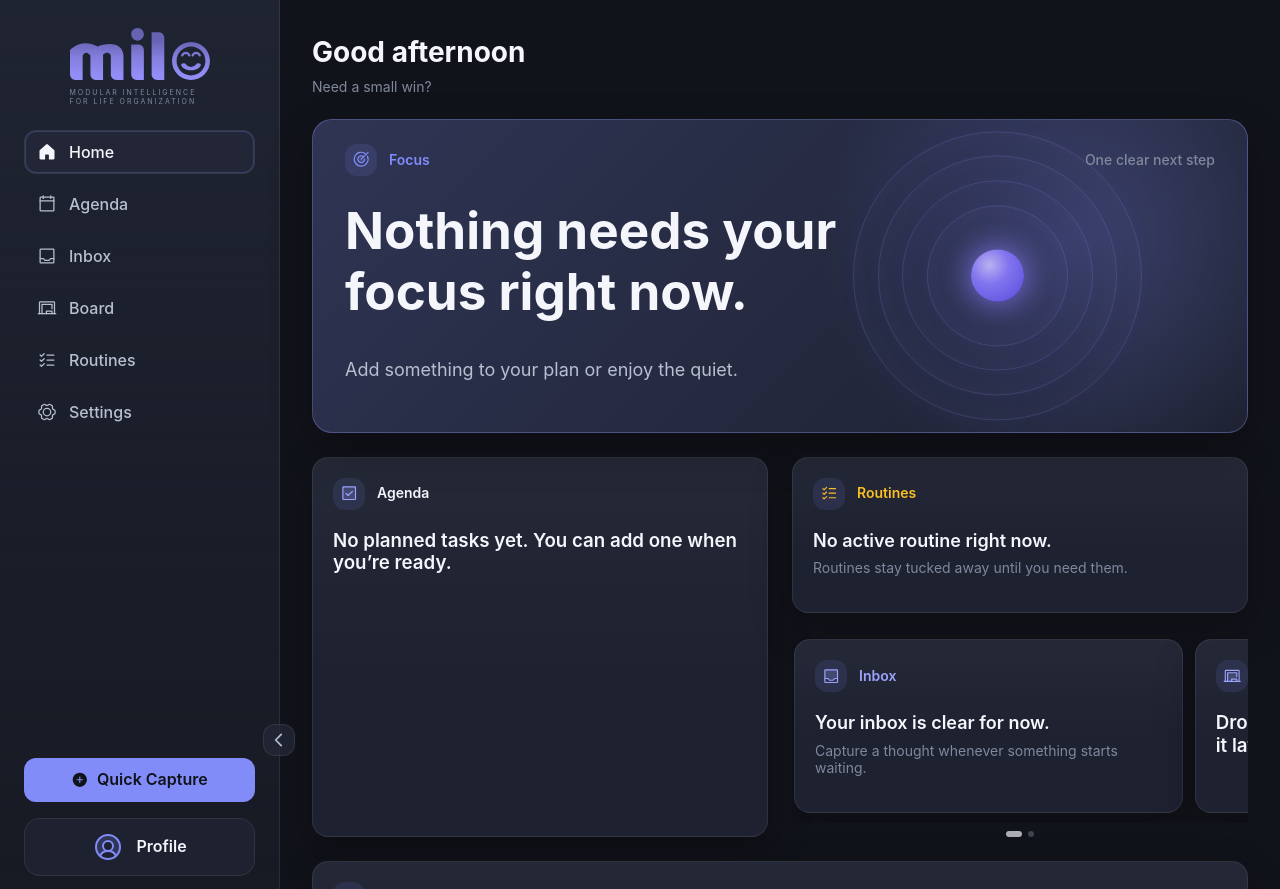
Scenario: HomePage › captures a quick thought from the sidebar quick capture button
The width and height of the screenshot is (1280, 889).
Click the button "Quick Capture". click: (140, 780)
box: [24, 758, 255, 802]
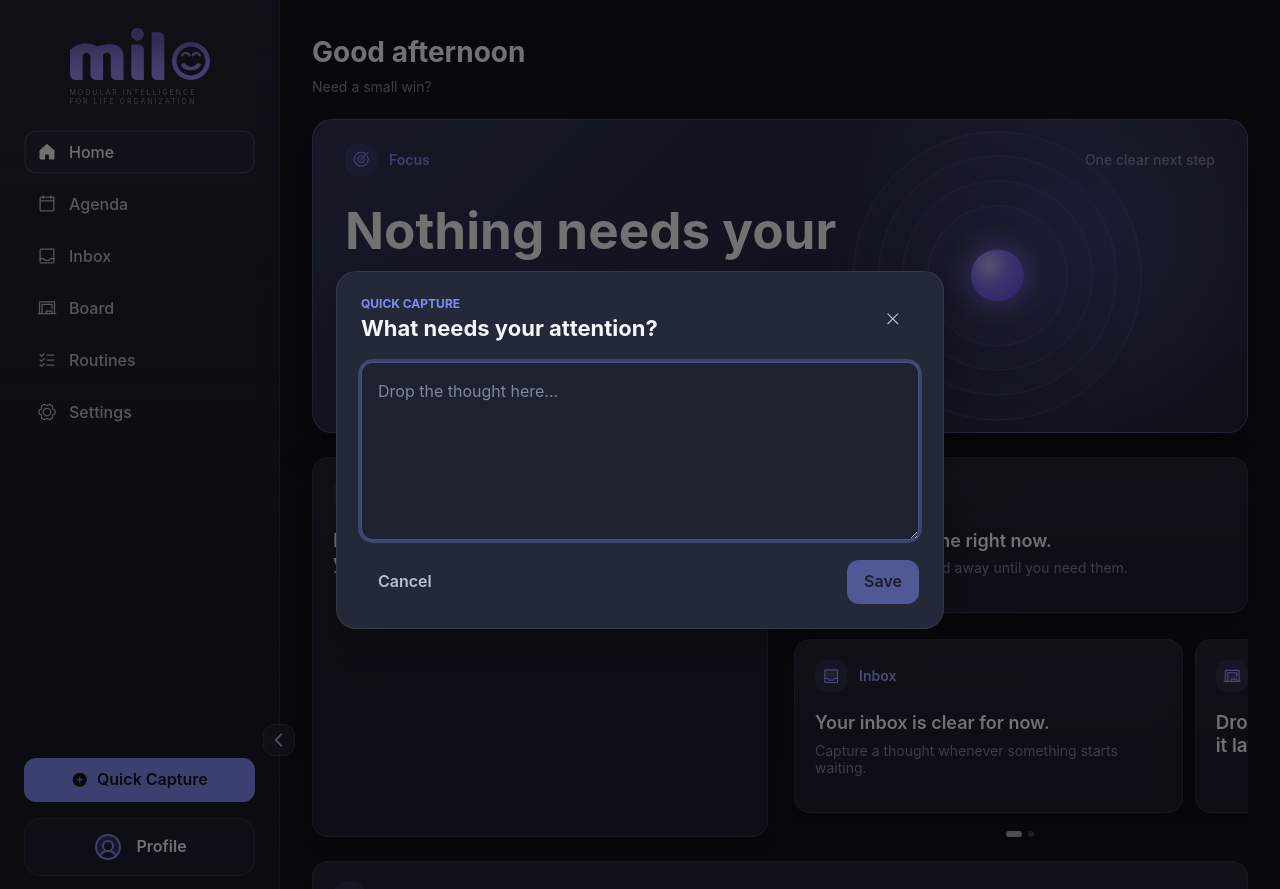
Type "Remember to book dentist appointment" into the text box named "capture thought". click: (640, 451)
box: [361, 362, 919, 540]
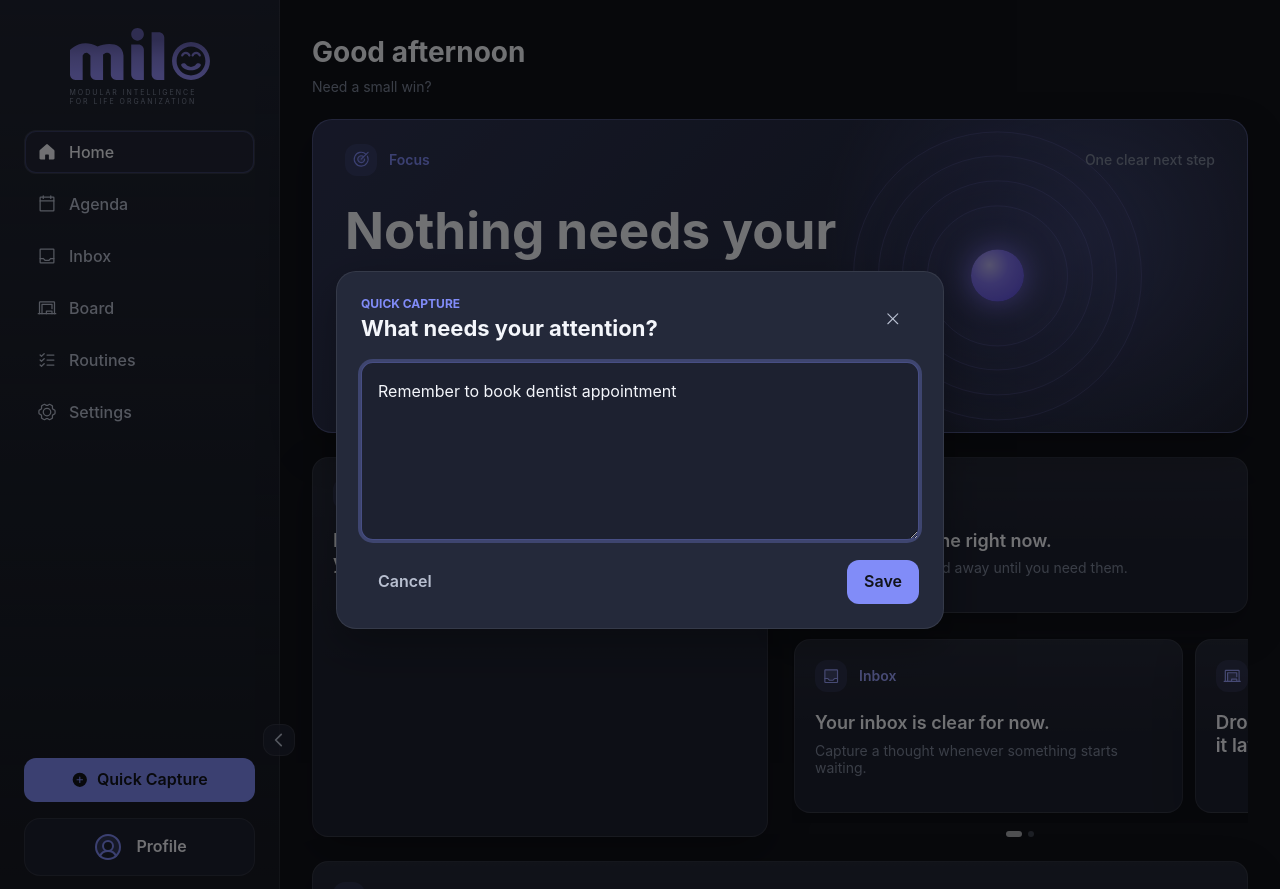
Click the button "Save". click: (883, 582)
box: [847, 560, 919, 604]
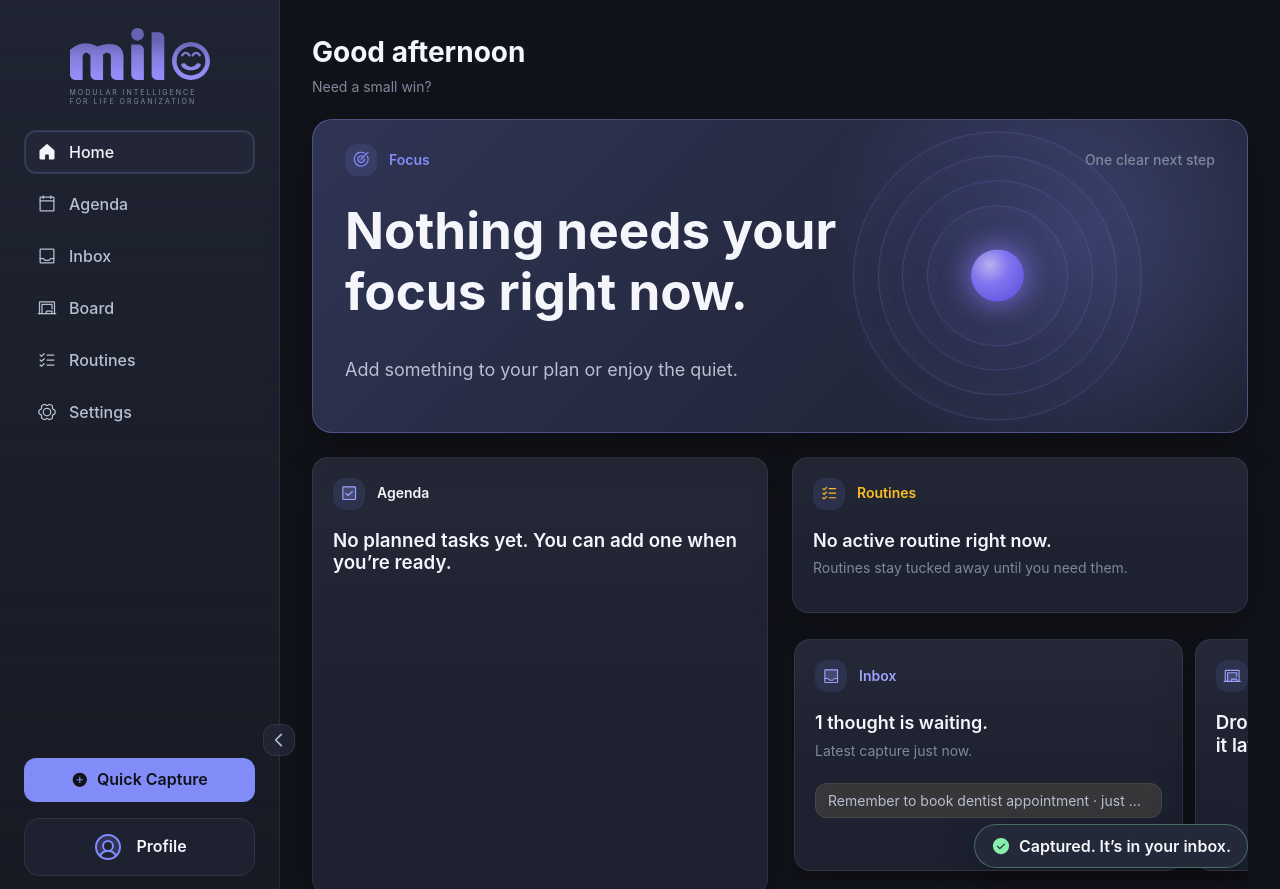
Now the dialog is gone
Now the message shows "Captured", box [1019, 836, 1231, 856]
